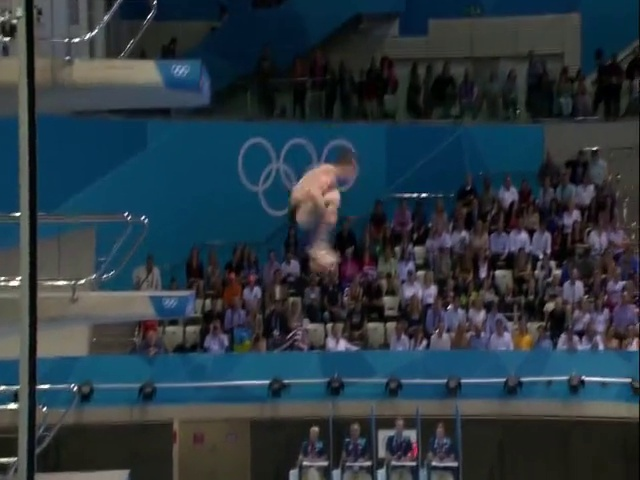diver: (288, 153, 356, 273)
